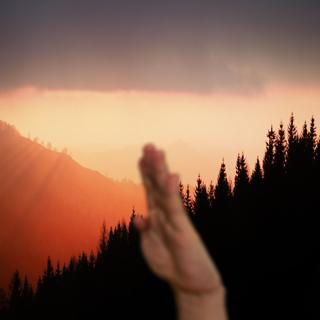RIGHT: (125, 140, 223, 298)
